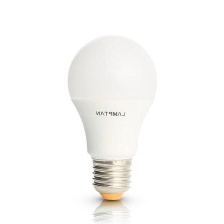light_bulb: (64, 29, 161, 205)
